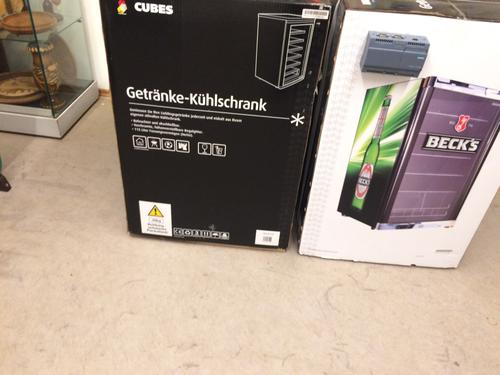iot2000: (359, 29, 430, 79)
